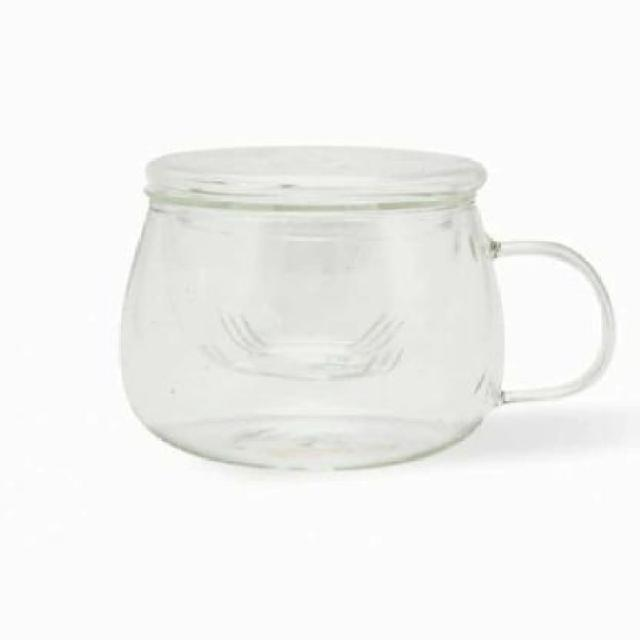taza: (101, 133, 626, 477)
